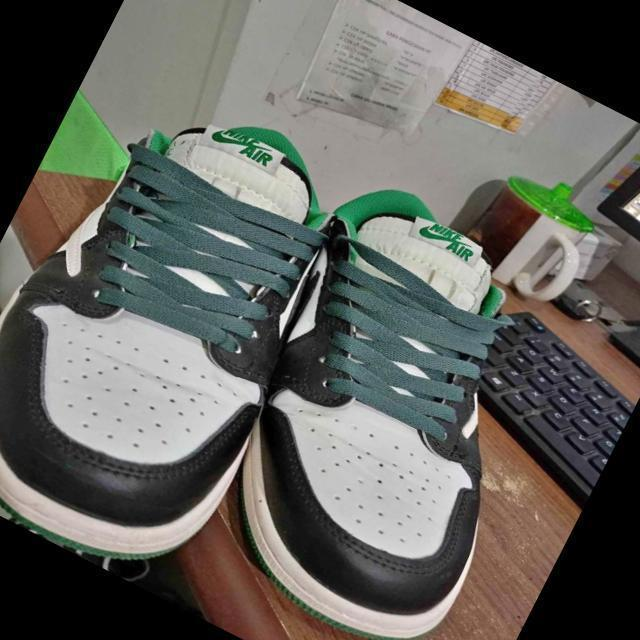nike fake jordan 1: (163, 159, 616, 640), (0, 41, 384, 603)
